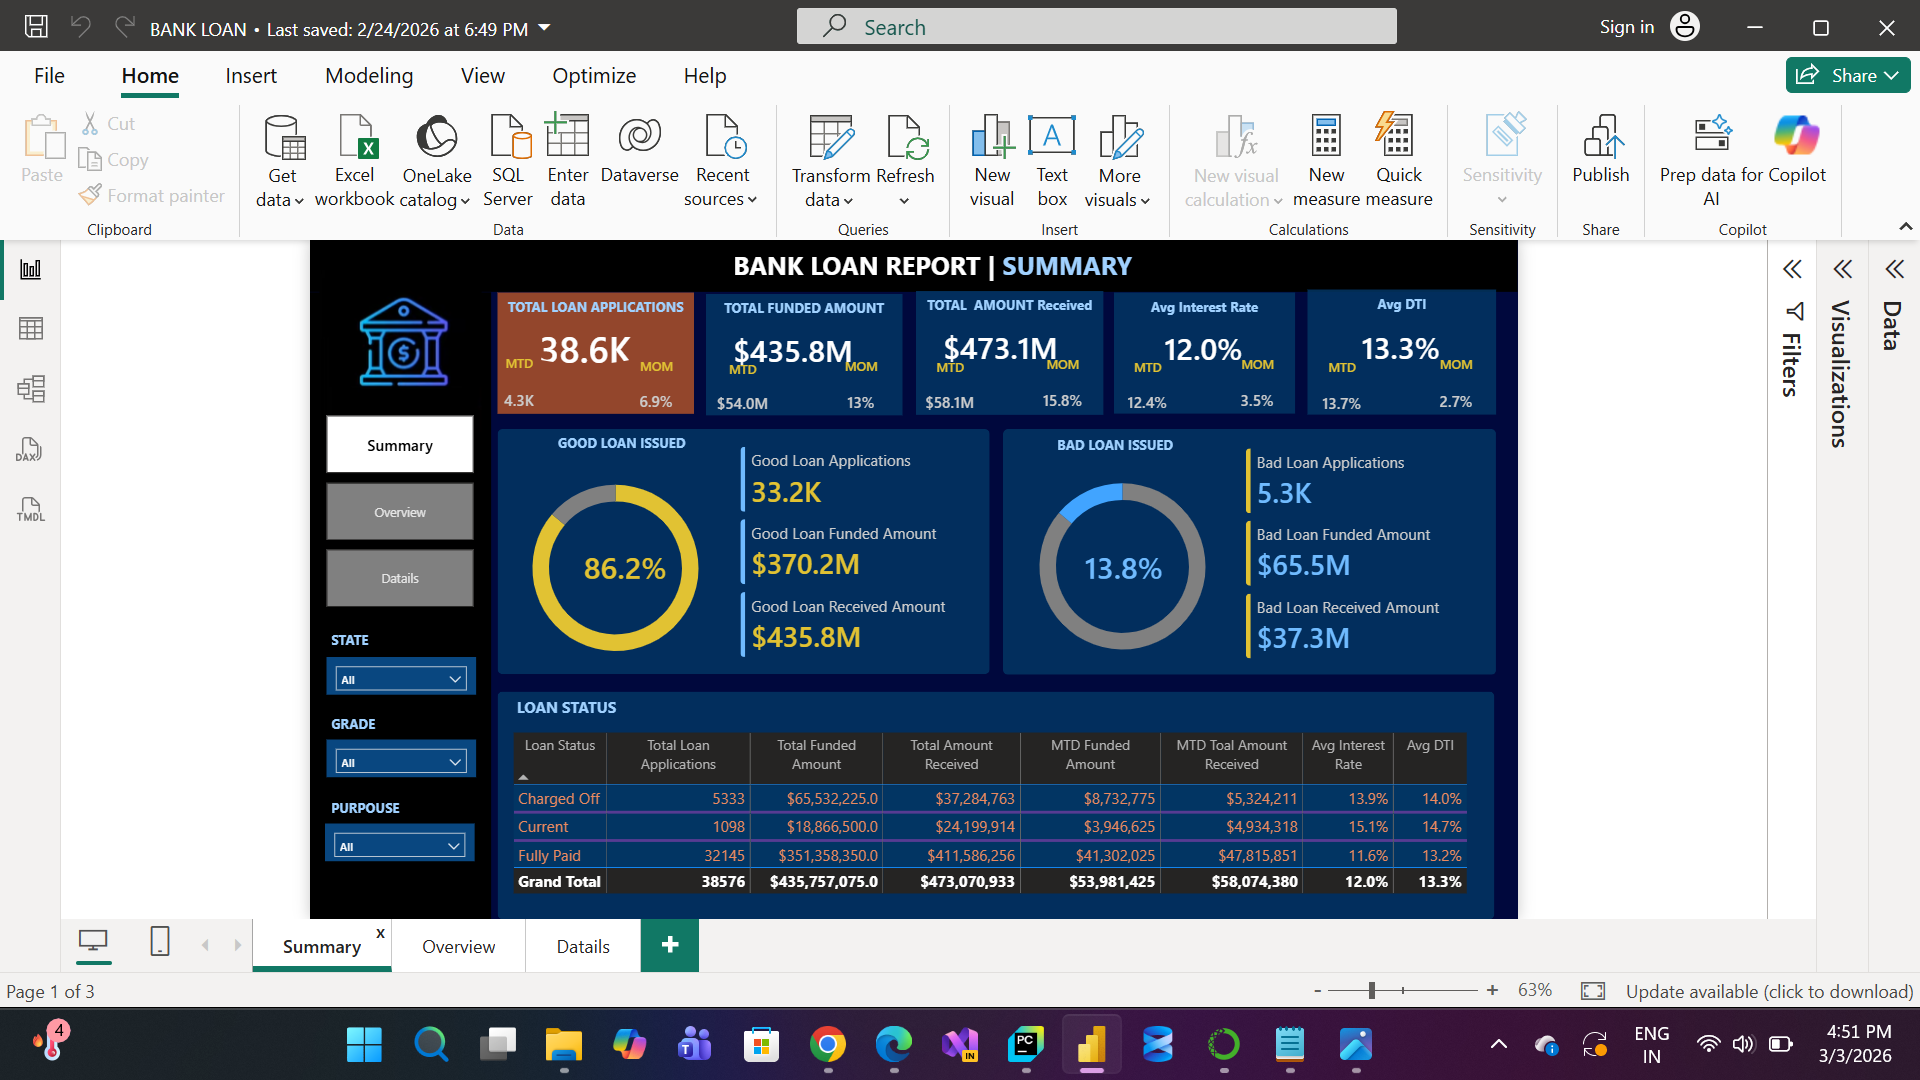

The page's visual inventory and layout, read from the dashboard file:
{"tool":"powerbi","page":{"name":"Summary","canvas":[1280,720],"ordinal":0},"visuals":[{"type":"shape","box":[1056.9,52.8,200.2,133],"z":0,"group":"g8"},{"type":"shape","box":[642.4,54.4,198.9,131.5],"z":0,"group":"g6"},{"type":"shape","box":[198.9,55.7,208.4,128.8],"z":0,"group":"g4"},{"type":"shape","box":[852.9,56,192,128.4],"z":0,"group":"g7"},{"type":"shape","box":[421.1,57.3,208.4,128.8],"z":0,"group":"g5"},{"type":"shape","box":[198.3,199.9,522,260],"z":0},{"type":"cardVisual","fields":{"Data":["Bank_Loan_Data.Avg DTI"]},"box":[1057.2,74.4,198.2,74.8],"z":500,"group":"g1"},{"type":"cardVisual","fields":{"Data":["Bank_Loan_Data.Total Amount Received"]},"box":[642.7,75.8,196.9,74],"z":500,"group":"g2"},{"type":"cardVisual","fields":{"Data":["Bank_Loan_Data.Avg Interest Rate"]},"box":[853.1,76.9,190.1,72.3],"z":500,"group":"g3"},{"type":"cardVisual","fields":{"Data":["Bank_Loan_Data.Total Funded Amount"]},"box":[421.1,79.6,186.1,71.6],"z":500,"group":"g5"},{"type":"shape","box":[0,0,1280.4,55],"z":1000},{"type":"textbox","box":[1056.9,52.8,200.2,39.4],"z":1000,"group":"g8"},{"type":"textbox","box":[642.4,54.4,198.9,39],"z":1000,"group":"g6"},{"type":"textbox","box":[198.9,55.7,208.4,38.2],"z":1000,"group":"g4"},{"type":"textbox","box":[852.9,56,192,38],"z":1000,"group":"g7"},{"type":"textbox","box":[421.1,57.3,208.4,38.2],"z":1000,"group":"g5"},{"type":"cardVisual","fields":{"Data":["Bank_Loan_Data.Total Loan Applications"]},"box":[198.9,78,186.1,71.6],"z":2000,"group":"g4"},{"type":"textbox","box":[222.3,199.9,215.9,32],"z":2000},{"type":"cardVisual","title":"MTD","fields":{"Data":["Bank_Loan_Data.MTD Loan  Applications"]},"box":[176.6,120.9,90.7,76.3],"z":3000,"group":"g4"},{"type":"cardVisual","title":"MTD","fields":{"Data":["Bank_Loan_Data.MTD Avg DTI"]},"box":[1034.8,125.5,117.7,73.2],"z":3000,"group":"g1"},{"type":"cardVisual","title":"MTD","fields":{"Data":["Bank_Loan_Data.MTD Avg Int Rate"]},"box":[831.7,126.3,112.9,70.7],"z":3000,"group":"g3"},{"type":"cardVisual","title":"MTD","fields":{"Data":["Bank_Loan_Data.MTD Toal Amount Received"]},"box":[620.5,126.4,116.9,72.4],"z":3000,"group":"g2"},{"type":"cardVisual","title":"MTD","fields":{"Data":["Bank_Loan_Data.MTD Funded Amount"]},"box":[398.1,127.8,122.5,70.9],"z":3000,"group":"g5"},{"type":"cardVisual","fields":{"Data":["Bank_Loan_Data.Good Loan %"]},"box":[252.7,313.5,163.1,64],"z":3000},{"type":"shape","box":[0,55.7,192,664.9],"z":4000},{"type":"cardVisual","title":"MOM","fields":{"Data":["Bank_Loan_Data.MoM Avg DTI"]},"box":[1161.9,122.2,105.3,76.5],"z":4000,"group":"g1"},{"type":"cardVisual","title":"MOM","fields":{"Data":["Bank_Loan_Data.MoM Total Amount Received"]},"box":[746.7,123.1,104.6,75.7],"z":4000,"group":"g2"},{"type":"cardVisual","title":"MOM","fields":{"Data":["Bank_Loan_Data.MoM Avg Int Rate"]},"box":[953.6,123.1,101,73.9],"z":4000,"group":"g3"},{"type":"cardVisual","title":"MOM","fields":{"Data":["Bank_Loan_Data.MoM Loan Applications"]},"box":[316.6,124.1,101.8,73.2],"z":4000,"group":"g4"},{"type":"cardVisual","title":"MOM","fields":{"Data":["Bank_Loan_Data.MoM Funded Amount"]},"box":[530.3,124.6,109.6,74.1],"z":4000,"group":"g5"},{"type":"textbox","box":[443.8,3.2,434.2,47.7],"z":5000},{"type":"group","id":"g1","title":"Group 2","box":[1034.8,74.4,232.4,124.3],"z":5001,"group":"g8"},{"type":"group","id":"g2","title":"Group 2","box":[620.5,75.8,230.8,122.9],"z":5001,"group":"g6"},{"type":"group","id":"g3","title":"Group 2","box":[831.7,76.9,222.8,120.1],"z":5001,"group":"g7"},{"type":"group","id":"g4","title":"Group 1","box":[176.6,55.7,241.8,141.6],"z":6000},{"type":"group","id":"g5","title":"Group 1","box":[398.1,57.3,241.8,141.4],"z":7000},{"type":"group","id":"g6","title":"Group 1","box":[620.5,54.4,231.9,143.9],"z":8000},{"type":"group","id":"g7","title":"Group 1","box":[831.7,56,223.9,142.3],"z":9000},{"type":"group","id":"g8","title":"Group 1","box":[1034.8,52.8,233.5,145.5],"z":10000},{"type":"shape","box":[734.1,199.9,523,260.7],"z":11000},{"type":"donutChart","fields":{"Category":["Bank_Loan_Data.Good vs Bad Loan"],"Y":["Bank_Loan_Data.Total Loan Applications"]},"box":[198.3,231.9,249.5,230.3],"z":12000},{"type":"cardVisual","fields":{"Data":["Bank_Loan_Data.Good Loan Applications","Bank_Loan_Data.Good Loan Funded Amount","Bank_Loan_Data.Good Loan Received Amount"]},"box":[438.2,201.5,279.9,259.1],"z":13000},{"type":"donutChart","fields":{"Category":["Bank_Loan_Data.Good vs Bad Loan"],"Y":["Bank_Loan_Data.Total Loan Applications"]},"box":[735.7,230.3,249.5,230.3],"z":14000},{"type":"textbox","box":[745.3,201.5,215.9,32],"z":15000},{"type":"cardVisual","fields":{"Data":["Bank_Loan_Data.Bad Loan %"]},"box":[782.1,313.5,161.5,64],"z":16000},{"type":"cardVisual","fields":{"Data":["Bank_Loan_Data.Bad Loan Applications","Bank_Loan_Data.Bad Loan Funded Amount","Bank_Loan_Data.Bad Loan Received Amount"]},"box":[975.6,203.1,279.9,259.1],"z":17000},{"type":"shape","box":[198.3,478.2,1057.2,241.5],"z":18000},{"type":"tableEx","fields":{"Values":["Bank_Loan_Data.loan_status","Bank_Loan_Data.Total Loan Applications","Bank_Loan_Data.Total Funded Amount","Bank_Loan_Data.Total Amount Received","Bank_Loan_Data.MTD Funded Amount","Bank_Loan_Data.MTD Toal Amount Received","Bank_Loan_Data.Avg Interest Rate","Bank_Loan_Data.Avg DTI"]},"box":[209.5,516.6,1025.2,182.3],"z":19000},{"type":"shape","box":[0,55.1,192,664.9],"z":20000},{"type":"textbox","box":[209.5,478.2,137.5,38.4],"z":21000},{"type":"slicer","fields":{"Values":["Bank_Loan_Data.address_state"]},"box":[17.6,441.4,158.3,40],"z":22000},{"type":"textbox","box":[17.6,409.4,156.7,32],"z":23000},{"type":"slicer","fields":{"Values":["Bank_Loan_Data.grade"]},"box":[17.6,529.4,158.3,40],"z":24000},{"type":"textbox","box":[17.6,497.4,156.7,32],"z":25000},{"type":"slicer","fields":{"Values":["Bank_Loan_Data.purpose"]},"box":[16,618.9,158.3,40],"z":26000},{"type":"textbox","box":[17.6,587,156.7,32],"z":27000},{"type":"image","box":[8,32,175.9,171.1],"z":28000},{"type":"pageNavigator","box":[17.6,185.5,156.7,203.1],"z":29000}]}

Visuals, with their boxes on the page's 1280x720 design canvas (x1, y1, x2, y2). These are canvas units, not pixel positions in the 1920x1080 screenshot, which may show the page scaled, cropped or inside an application window:
shape: crop(1057, 53, 1257, 186)
shape: crop(642, 54, 841, 186)
shape: crop(199, 56, 407, 184)
shape: crop(853, 56, 1045, 184)
shape: crop(421, 57, 630, 186)
shape: crop(198, 200, 720, 460)
cardVisual - Bank_Loan_Data.Avg DTI: crop(1057, 74, 1255, 149)
cardVisual - Bank_Loan_Data.Total Amount Received: crop(643, 76, 840, 150)
cardVisual - Bank_Loan_Data.Avg Interest Rate: crop(853, 77, 1043, 149)
cardVisual - Bank_Loan_Data.Total Funded Amount: crop(421, 80, 607, 151)
shape: crop(0, 0, 1280, 55)
textbox: crop(1057, 53, 1257, 92)
textbox: crop(642, 54, 841, 93)
textbox: crop(199, 56, 407, 94)
textbox: crop(853, 56, 1045, 94)
textbox: crop(421, 57, 630, 96)
cardVisual - Bank_Loan_Data.Total Loan Applications: crop(199, 78, 385, 150)
textbox: crop(222, 200, 438, 232)
"MTD" cardVisual: crop(177, 121, 267, 197)
"MTD" cardVisual: crop(1035, 126, 1152, 199)
"MTD" cardVisual: crop(832, 126, 945, 197)
"MTD" cardVisual: crop(620, 126, 737, 199)
"MTD" cardVisual: crop(398, 128, 521, 199)
cardVisual - Bank_Loan_Data.Good Loan %: crop(253, 314, 416, 378)
shape: crop(0, 56, 192, 721)
"MOM" cardVisual: crop(1162, 122, 1267, 199)
"MOM" cardVisual: crop(747, 123, 851, 199)
"MOM" cardVisual: crop(954, 123, 1055, 197)
"MOM" cardVisual: crop(317, 124, 418, 197)
"MOM" cardVisual: crop(530, 125, 640, 199)
textbox: crop(444, 3, 878, 51)
"Group 2" group: crop(1035, 74, 1267, 199)
"Group 2" group: crop(620, 76, 851, 199)
"Group 2" group: crop(832, 77, 1054, 197)
"Group 1" group: crop(177, 56, 418, 197)
"Group 1" group: crop(398, 57, 640, 199)
"Group 1" group: crop(620, 54, 852, 198)
"Group 1" group: crop(832, 56, 1056, 198)
"Group 1" group: crop(1035, 53, 1268, 198)
shape: crop(734, 200, 1257, 461)
donutChart - Bank_Loan_Data.Good vs Bad Loan x Bank_Loan_Data.Total Loan Applications: crop(198, 232, 448, 462)
cardVisual - Bank_Loan_Data.Good Loan Applications x Bank_Loan_Data.Good Loan Funded Amount: crop(438, 202, 718, 461)
donutChart - Bank_Loan_Data.Good vs Bad Loan x Bank_Loan_Data.Total Loan Applications: crop(736, 230, 985, 461)
textbox: crop(745, 202, 961, 234)
cardVisual - Bank_Loan_Data.Bad Loan %: crop(782, 314, 944, 378)
cardVisual - Bank_Loan_Data.Bad Loan Applications x Bank_Loan_Data.Bad Loan Funded Amount: crop(976, 203, 1256, 462)
shape: crop(198, 478, 1256, 720)
tableEx - Bank_Loan_Data.loan_status x Bank_Loan_Data.Total Loan Applications: crop(210, 517, 1235, 699)
shape: crop(0, 55, 192, 720)
textbox: crop(210, 478, 347, 517)
slicer - Bank_Loan_Data.address_state: crop(18, 441, 176, 481)
textbox: crop(18, 409, 174, 441)
slicer - Bank_Loan_Data.grade: crop(18, 529, 176, 569)
textbox: crop(18, 497, 174, 529)
slicer - Bank_Loan_Data.purpose: crop(16, 619, 174, 659)
textbox: crop(18, 587, 174, 619)
image: crop(8, 32, 184, 203)
pageNavigator: crop(18, 186, 174, 389)
